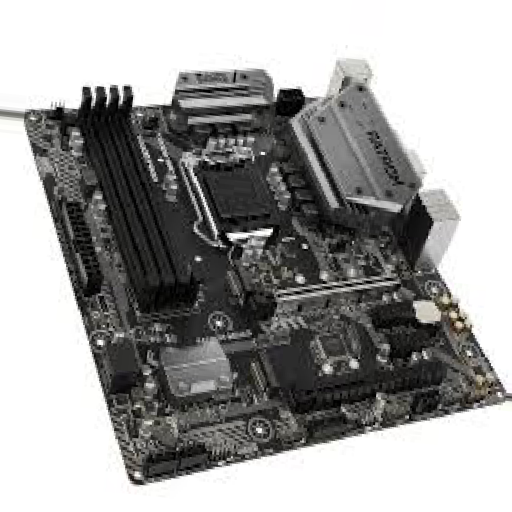CPU: (182, 147, 289, 248)
GPU: (293, 359, 445, 409), (247, 272, 404, 316)
MOTHERBOARD: (25, 91, 512, 482)
RAM: (82, 85, 199, 310)
SSD: (226, 268, 255, 297)
